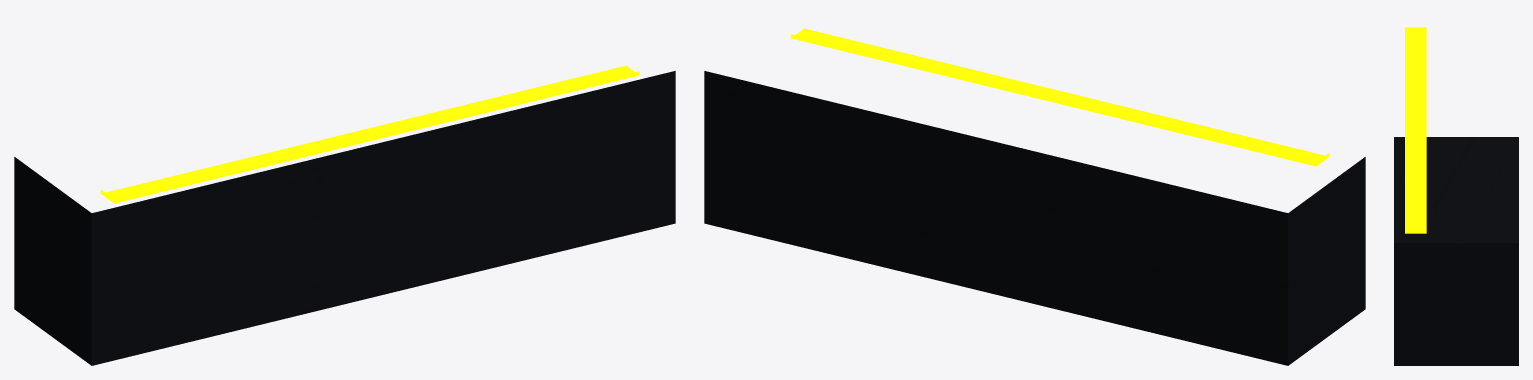
File: tt_plant_stack_sill_sw.glb
The picture shows the model from 3 angles, left to right: view 1: azimuth 30°, elevation 25°; view 2: azimuth 150°, elevation 25°; view 3: azimuth 270°, elevation 25°; orthographic projection. The views are drawn at different scales.
Parts seen in each view (by area): view 1: Sill_Infill, Sill_Amber; view 2: Sill_Infill, Sill_Amber; view 3: Sill_Infill, Sill_Amber.
Boxes of the visible parts, x1,y1,x2,y2 form: Sill_Infill: (14, 71, 675, 365); Sill_Amber: (100, 65, 639, 203); Sill_Infill: (704, 71, 1365, 365); Sill_Amber: (790, 28, 1329, 166); Sill_Infill: (1394, 137, 1518, 365); Sill_Amber: (1405, 27, 1426, 233).
Size of what is drawn, in the model's own units: 1 by 0.253 by 0.23.
2 materials, 1 textured.
